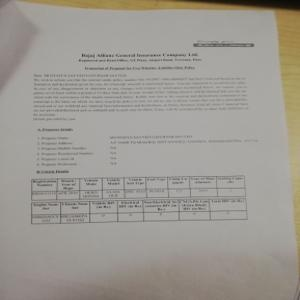table: (30, 198, 247, 221), (31, 175, 245, 198)
text: (33, 124, 259, 175), (31, 71, 248, 122), (72, 49, 202, 71)
